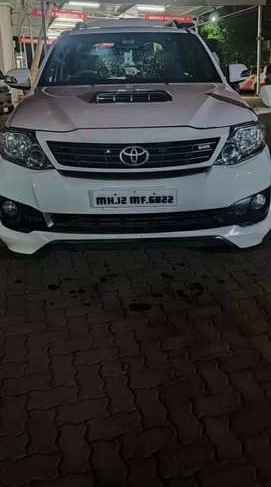MH12MF6822: (92, 190, 176, 207)
